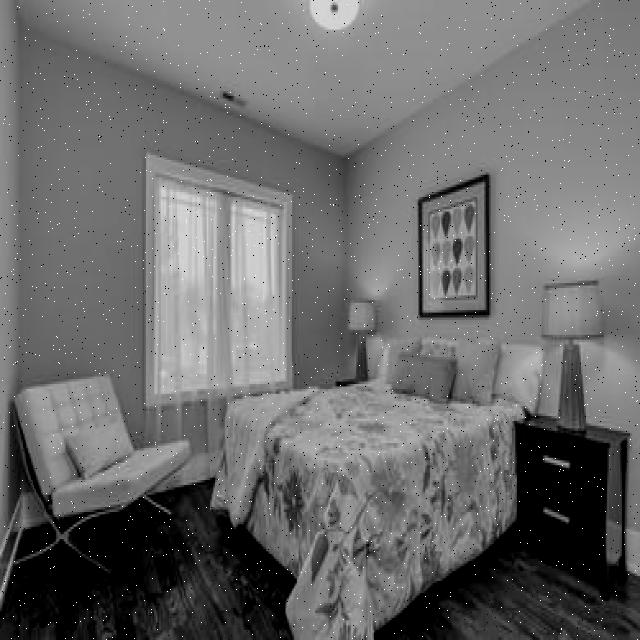bed: (214, 333, 518, 611)
